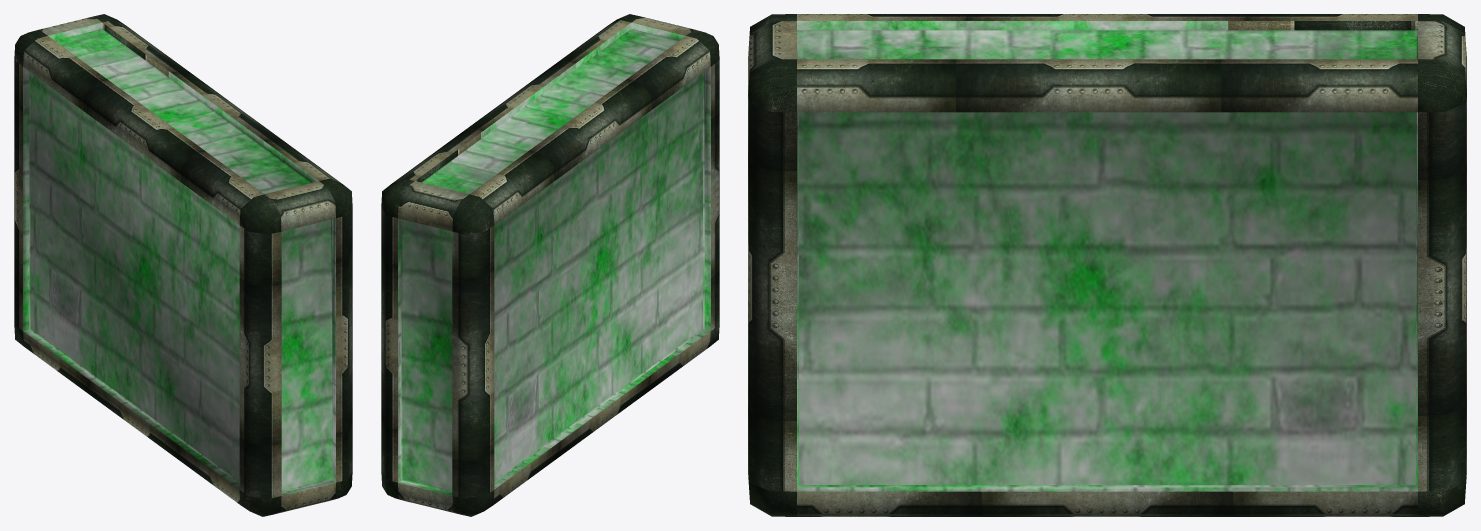
The model's file is Platform2.fbx.
The picture shows the model from 3 angles, left to right: view 1: azimuth 30°, elevation 25°; view 2: azimuth 150°, elevation 25°; view 3: azimuth 270°, elevation 25°; orthographic projection. The views are drawn at different scales.
Parts seen in each view (by area): view 1: Cube.003; view 2: Cube.003; view 3: Cube.003.
Part boxes in pixels (x1=…): Cube.003: x1=14, y1=14, x2=352, y2=516; Cube.003: x1=381, y1=14, x2=719, y2=516; Cube.003: x1=748, y1=14, x2=1466, y2=516.
Size of the model in its own units: 52.13 by 150 by 217.
